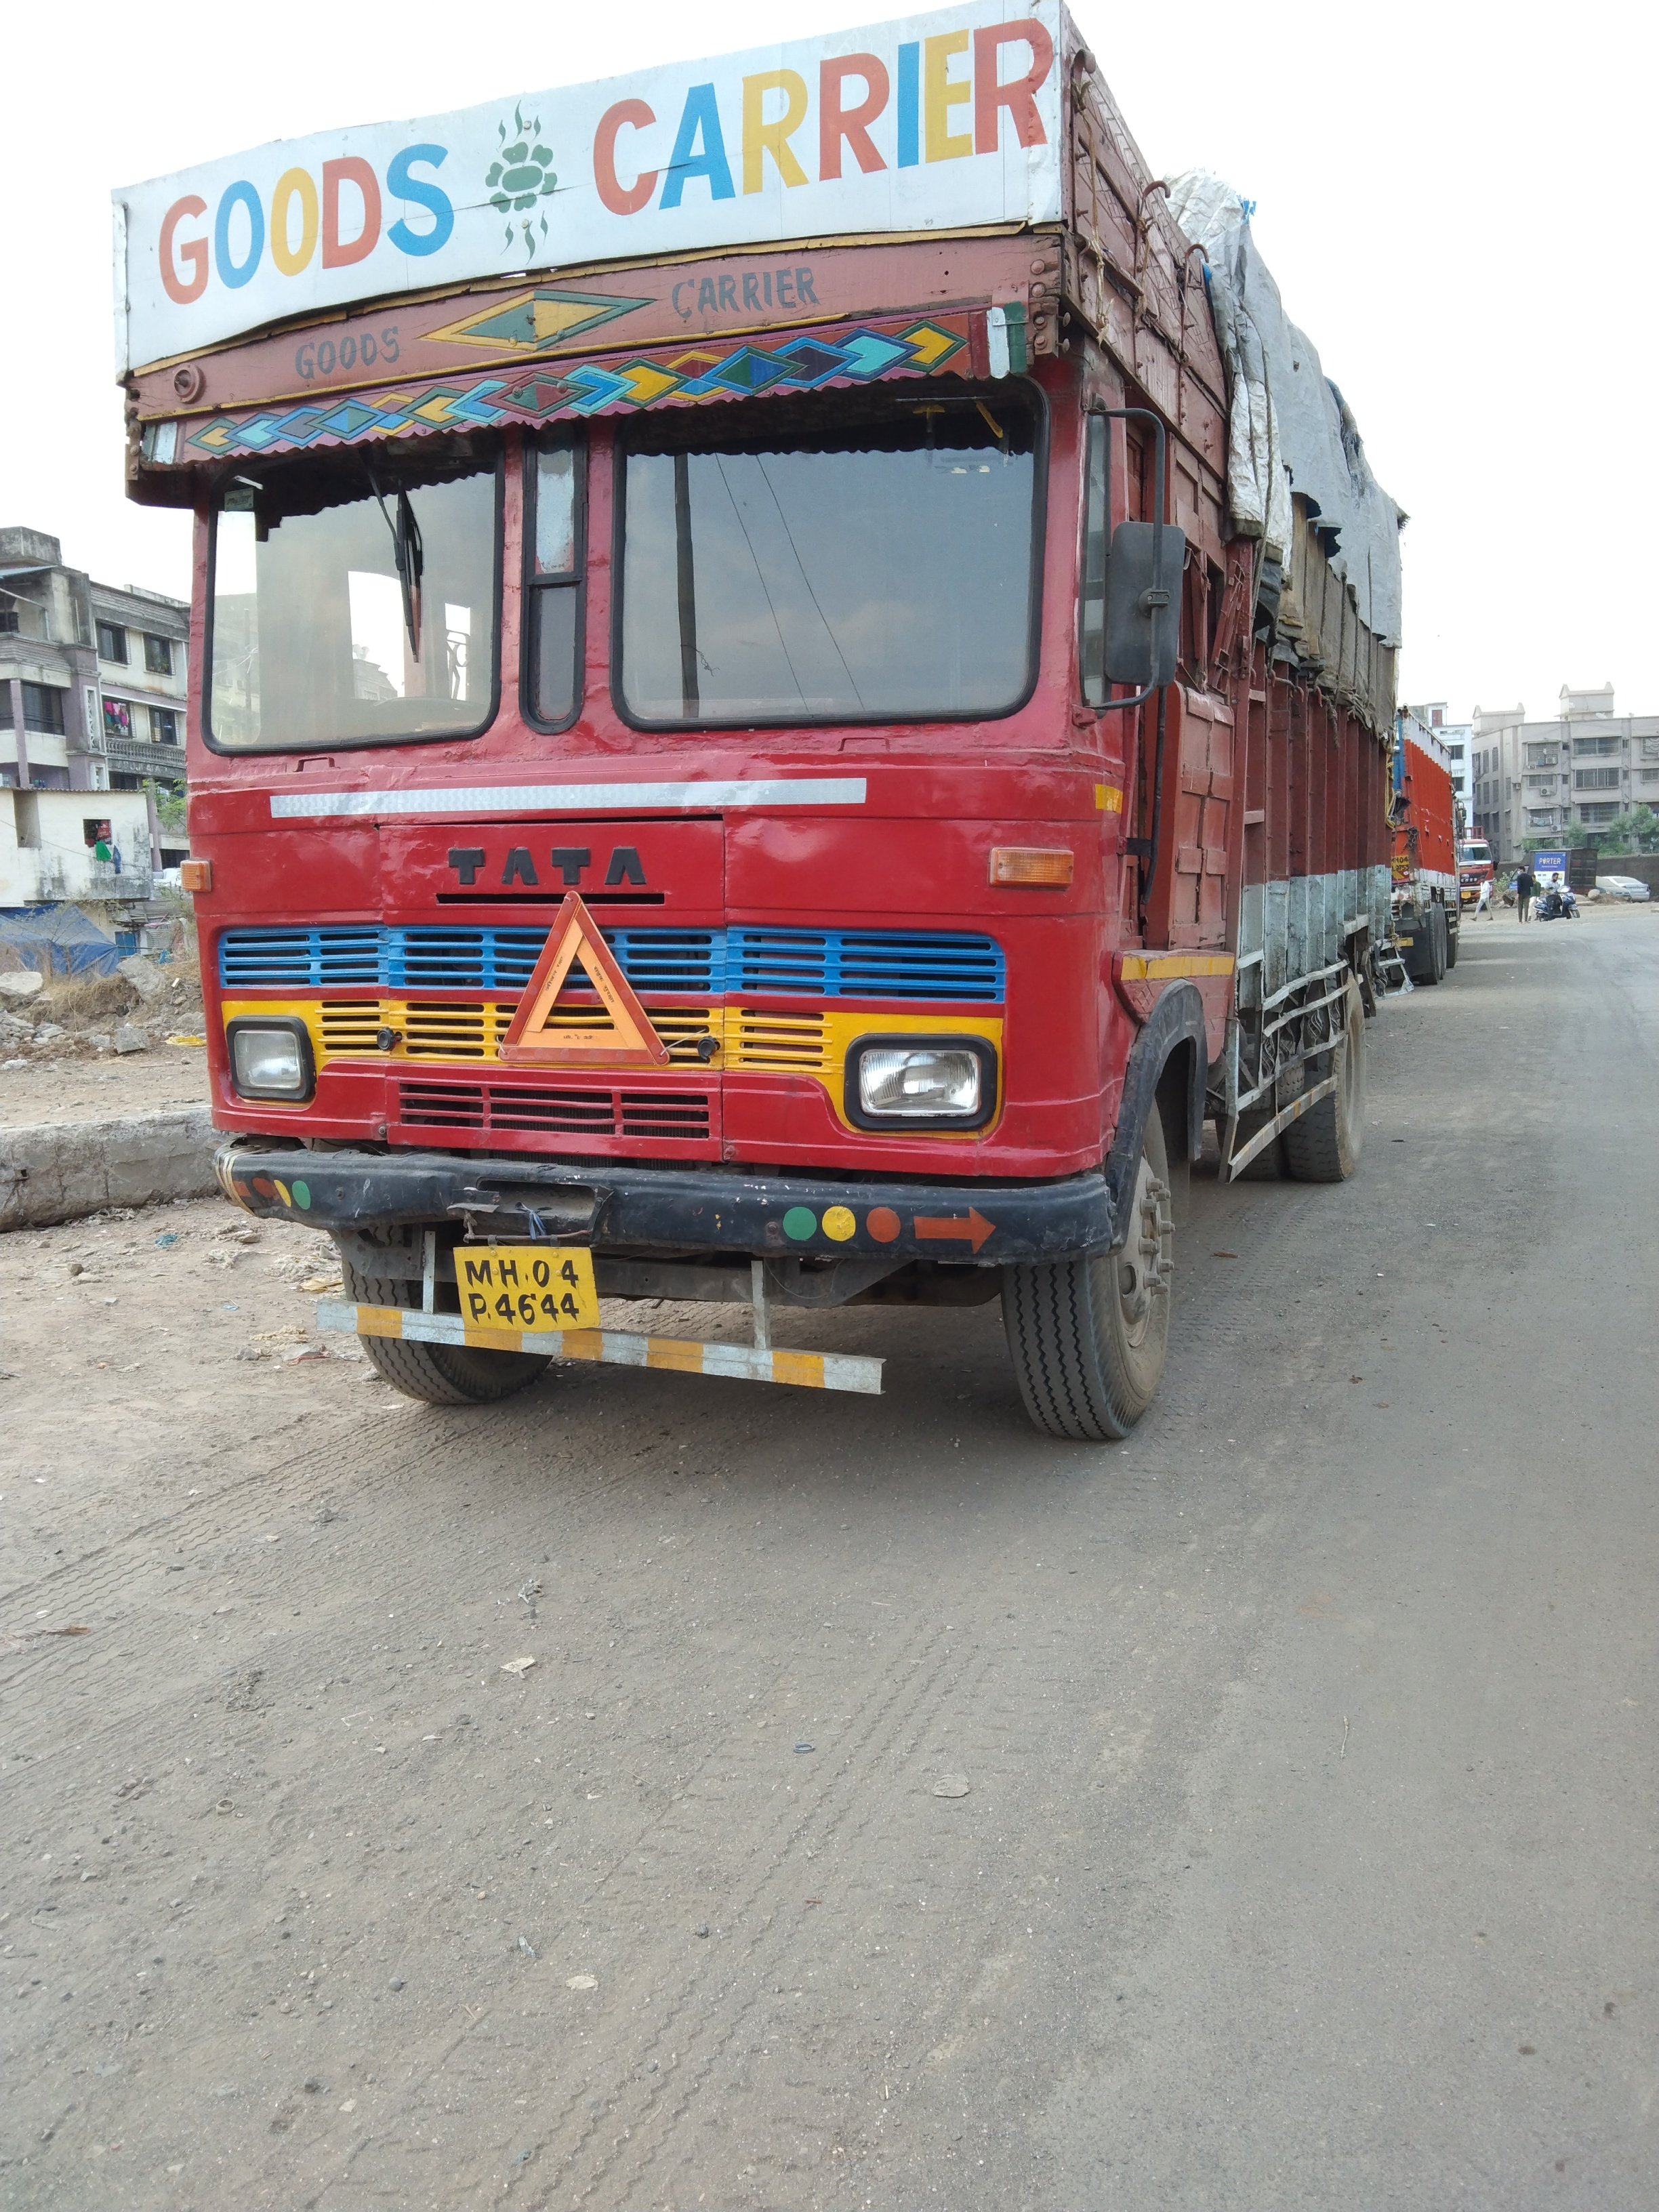truck: (87, 0, 1413, 1454), (1382, 695, 1467, 988), (1457, 824, 1500, 911)
